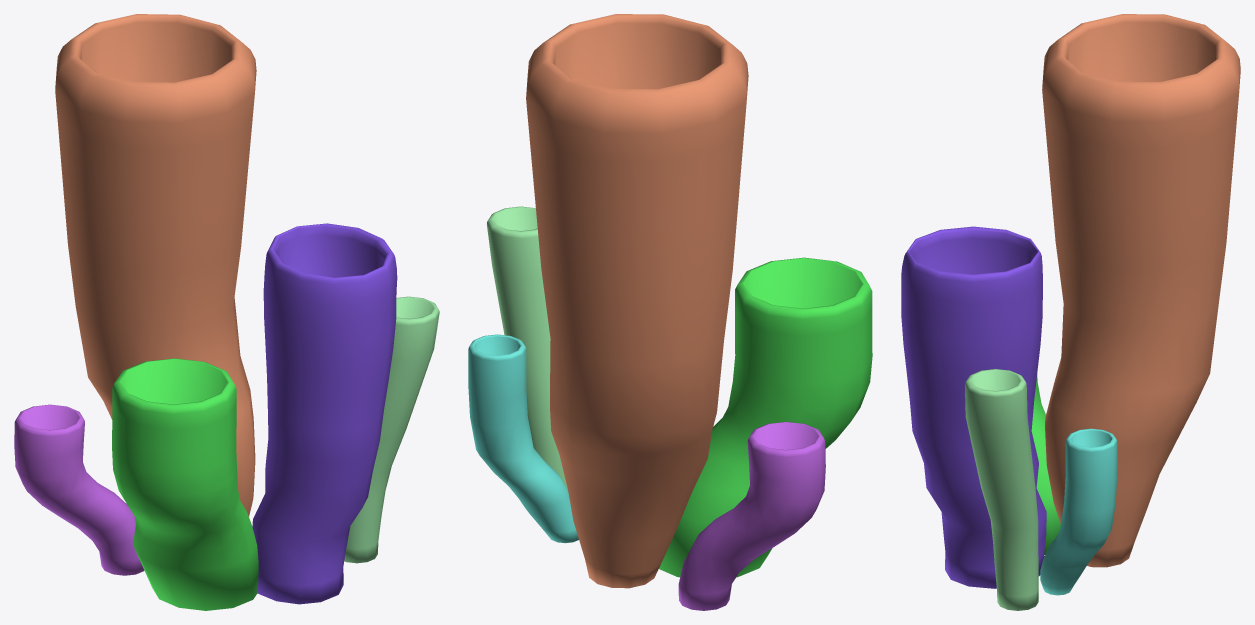
File: coral bunch.fbx
3 renders of one model, left to right at view 1: azimuth 30°, elevation 25°; view 2: azimuth 150°, elevation 25°; view 3: azimuth 270°, elevation 25°, orthographic. The views are drawn at different scales.
Visible parts, largest first — view 1: big coral 1, medium coral 2, medium coral 1, small coral 2, long coral 1; view 2: big coral 1, medium coral 1, small coral 2, small coral 1, long coral 1; view 3: big coral 1, medium coral 2, long coral 1, small coral 1, medium coral 1.
Boxes of the visible parts, bbox=[...] form: big coral 1: bbox=[55, 14, 256, 516]; medium coral 2: bbox=[252, 223, 397, 604]; medium coral 1: bbox=[112, 358, 258, 610]; small coral 2: bbox=[14, 404, 144, 575]; long coral 1: bbox=[344, 296, 439, 563]; big coral 1: bbox=[526, 14, 748, 588]; medium coral 1: bbox=[659, 257, 872, 577]; small coral 2: bbox=[678, 422, 825, 610]; small coral 1: bbox=[468, 334, 578, 543]; long coral 1: bbox=[487, 206, 567, 489]; big coral 1: bbox=[1042, 14, 1240, 567]; medium coral 2: bbox=[901, 226, 1046, 588]; long coral 1: bbox=[965, 369, 1038, 610]; small coral 1: bbox=[1040, 428, 1117, 595]; medium coral 1: bbox=[1031, 374, 1060, 554].
Bounding box in the file's own units: 0.6572 × 0.5484 × 0.874.
